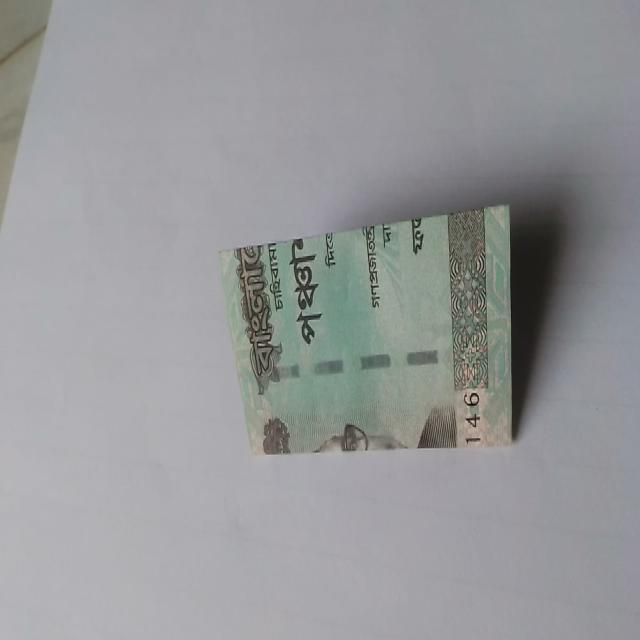Taka: (220, 220, 514, 455)
